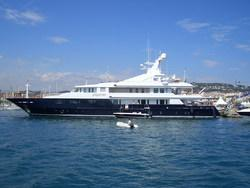yacht: (5, 50, 223, 118)
